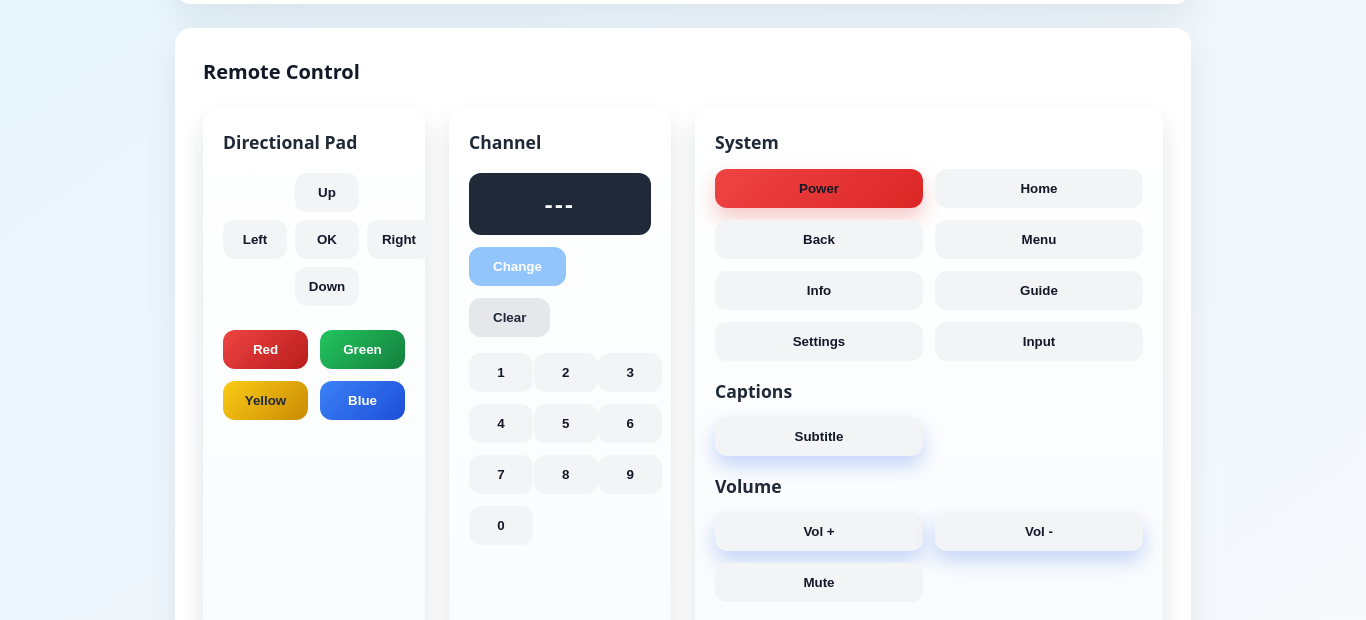
Scenario: App manual serial behaviour › restores manual serial preference and enables remote buttons on load
(page scrolled)
Click the button "OK" at [327, 239], box [295,220,359,258]
(page scrolled)
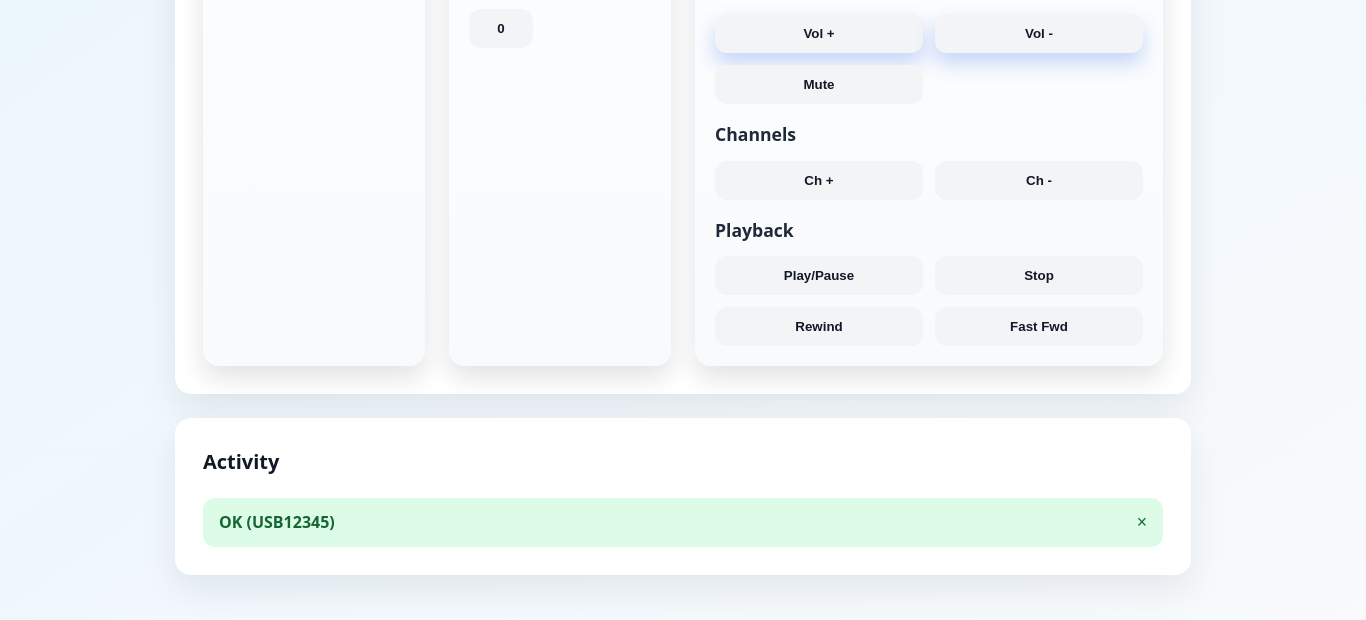
Now the text "OK (USB12345)" is shown, box [219,511,335,533]
